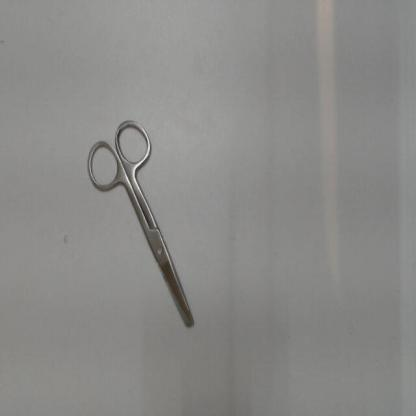Dressing Scissors: (77, 103, 203, 342)
